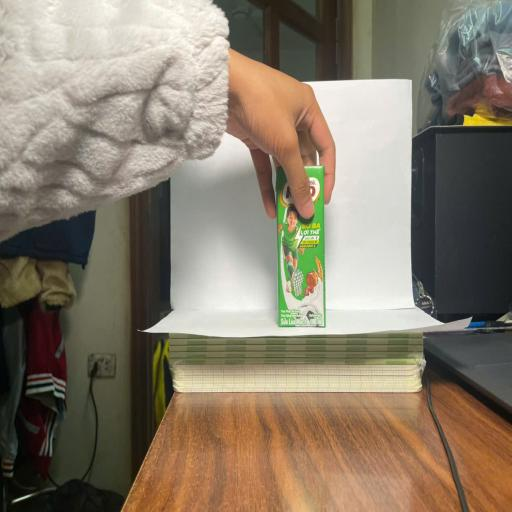milo: (276, 166, 326, 327)
